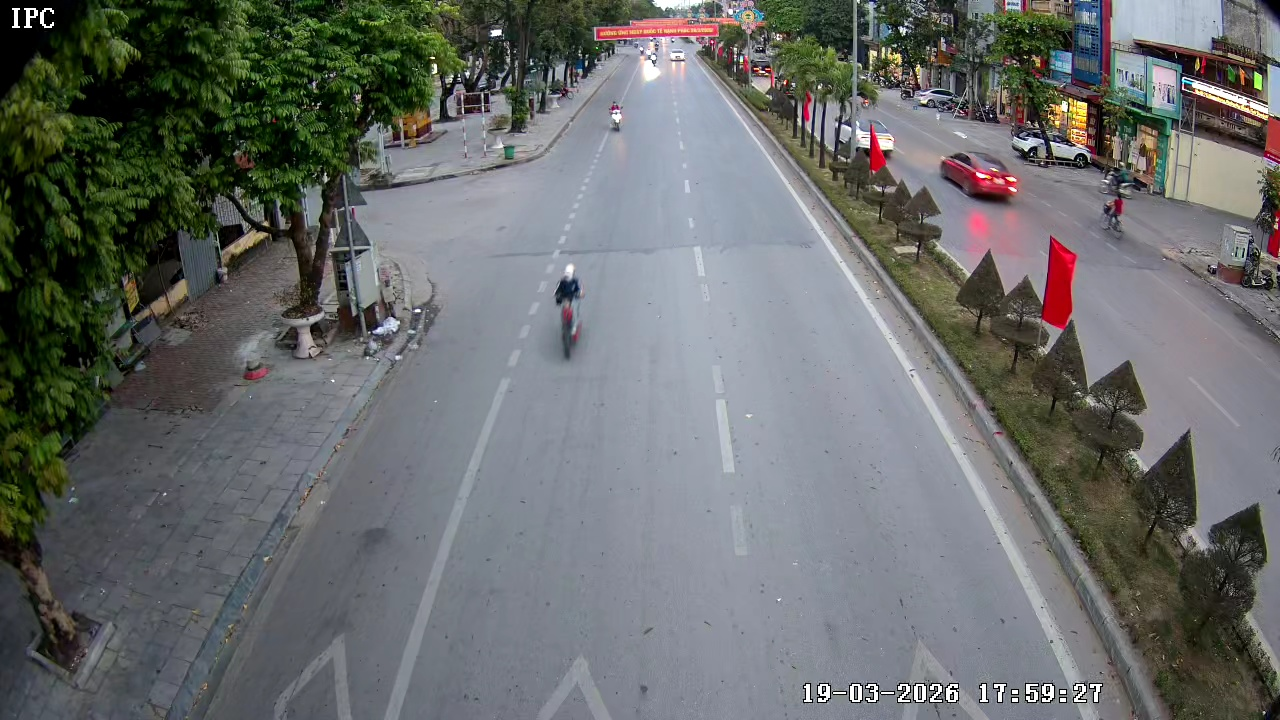bike: (551, 263, 587, 361)
car: (938, 150, 1016, 204), (669, 47, 688, 65)
motorbike: (607, 101, 625, 133)
